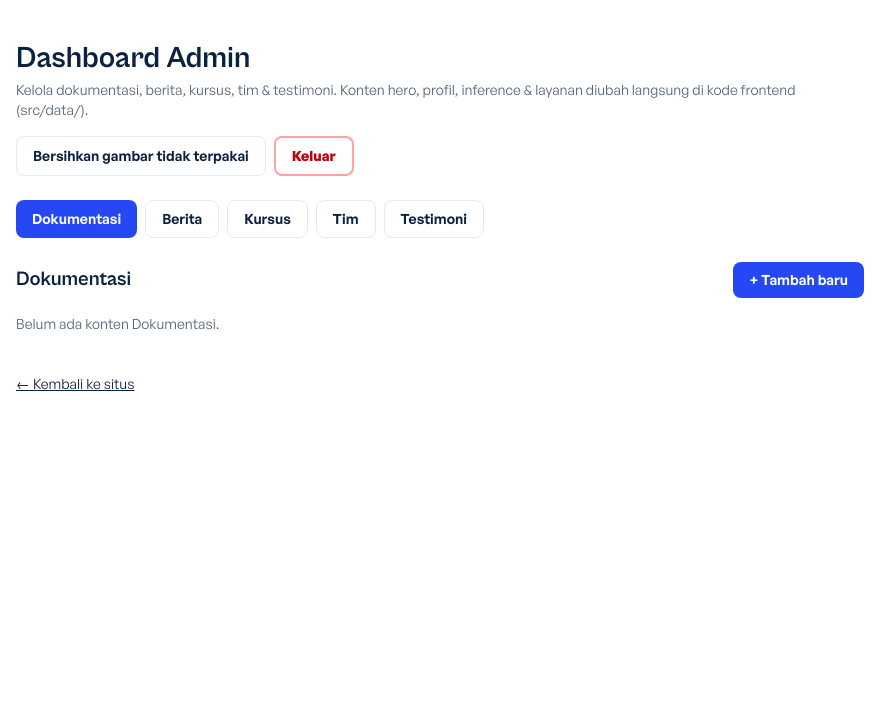
Admin — dashboard › tambah baru → form muncul, Simpan → POST + daftar dimuat ulang
The width and height of the screenshot is (881, 710).
Expected: the heading "Dashboard Admin" is shown, [16,41,250,75]
Click the button "+ Tambah baru": (799, 280) [733,262,864,298]
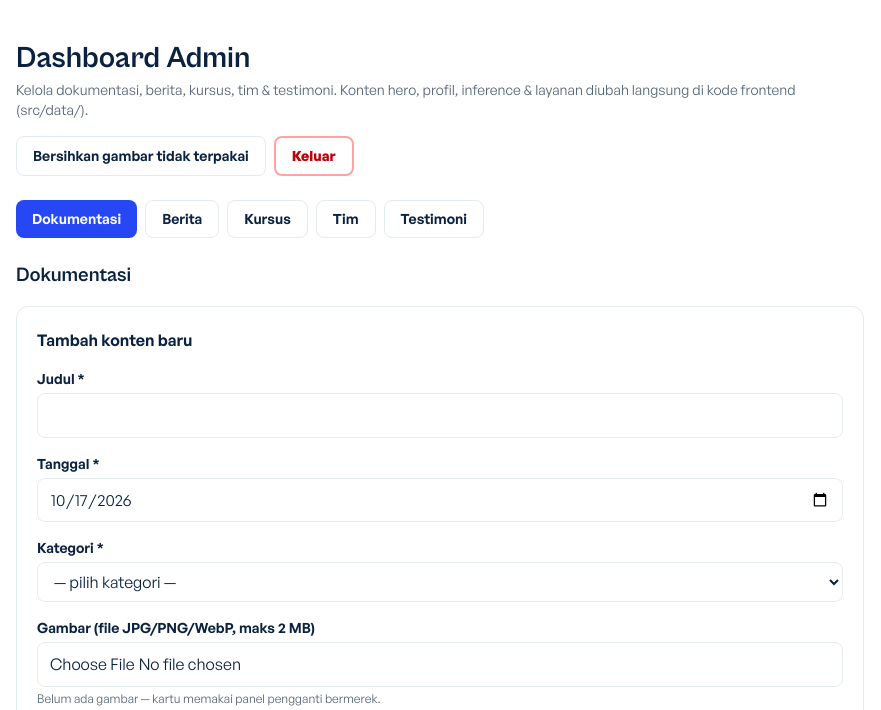
In the field labelled "Judul *": (440, 416) [37,393,843,438], type "Karya Baru"
In the date field labelled "Tanggal *": (440, 500) [37,478,843,522], type "2026-10-02"
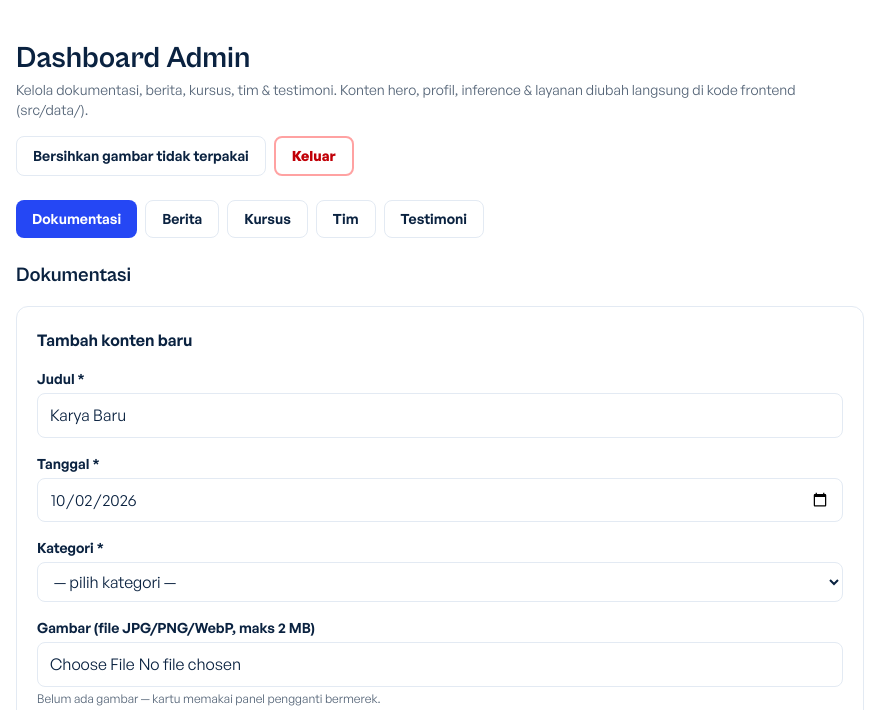
Select "Lainnya (ketik sendiri)" in the dropdown labelled "Kategori *": (440, 582) [37,562,843,602]
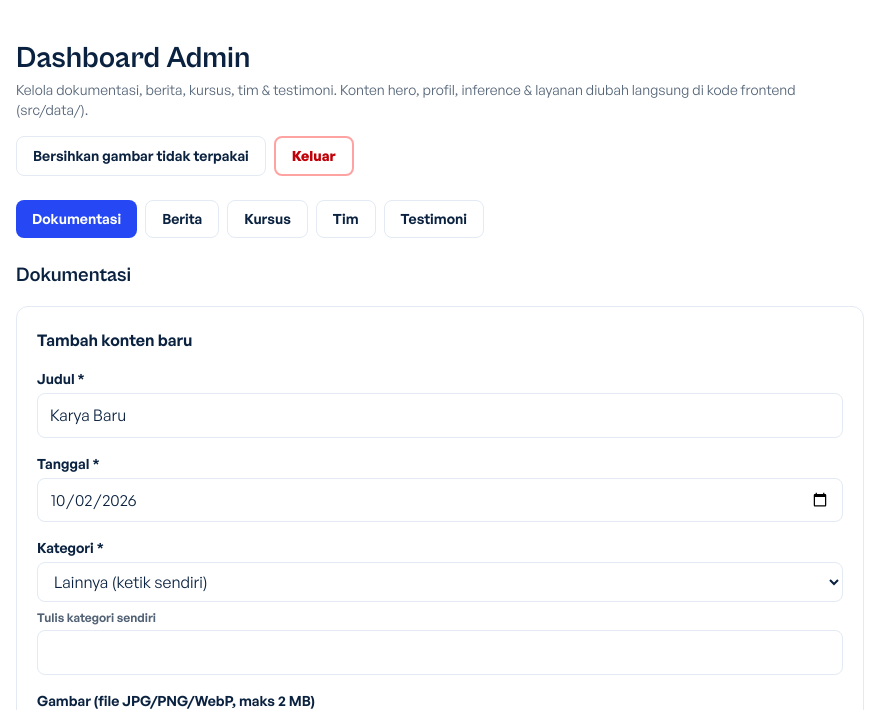
In the field labelled "Tulis kategori sendiri": (440, 652) [37,630,843,675], type "Project"
(page scrolled)
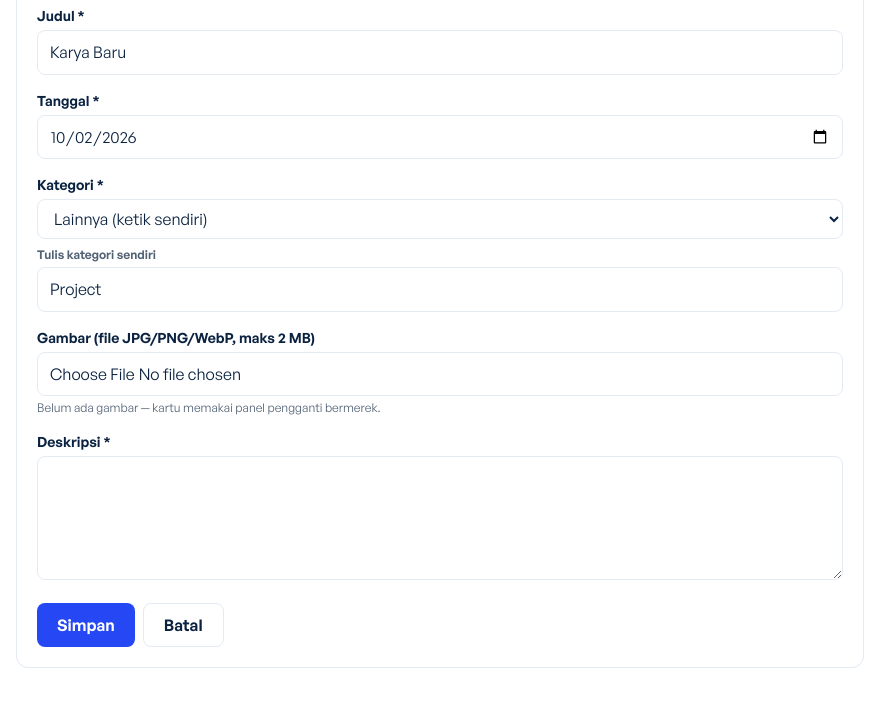
In the text box labelled "Deskripsi *": (440, 518) [37,456,843,580], type "Deskripsi karya."
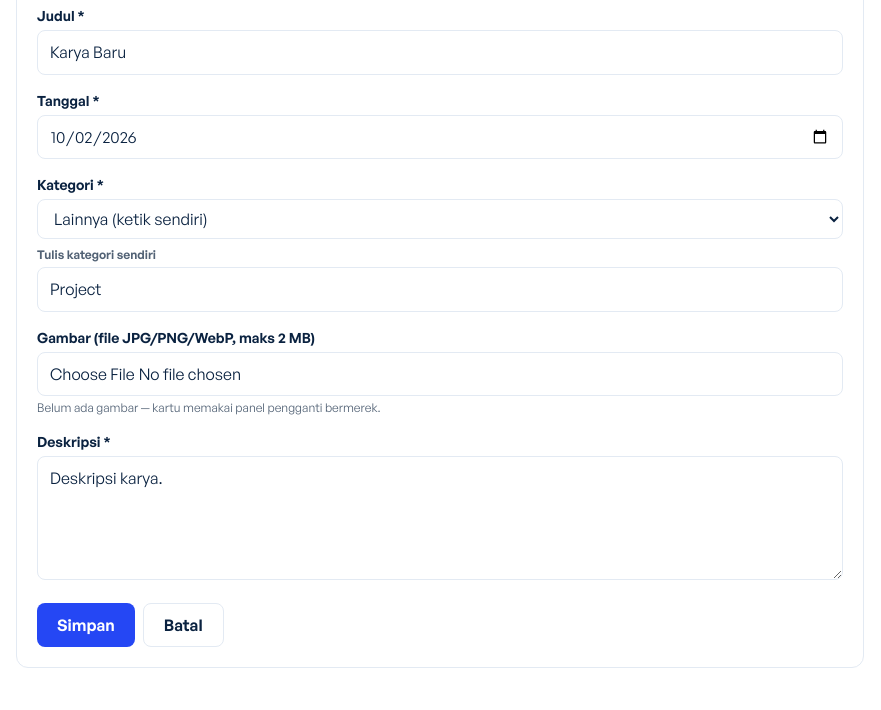
Click the button "Simpan": (86, 625) [37,603,135,647]
(page scrolled)
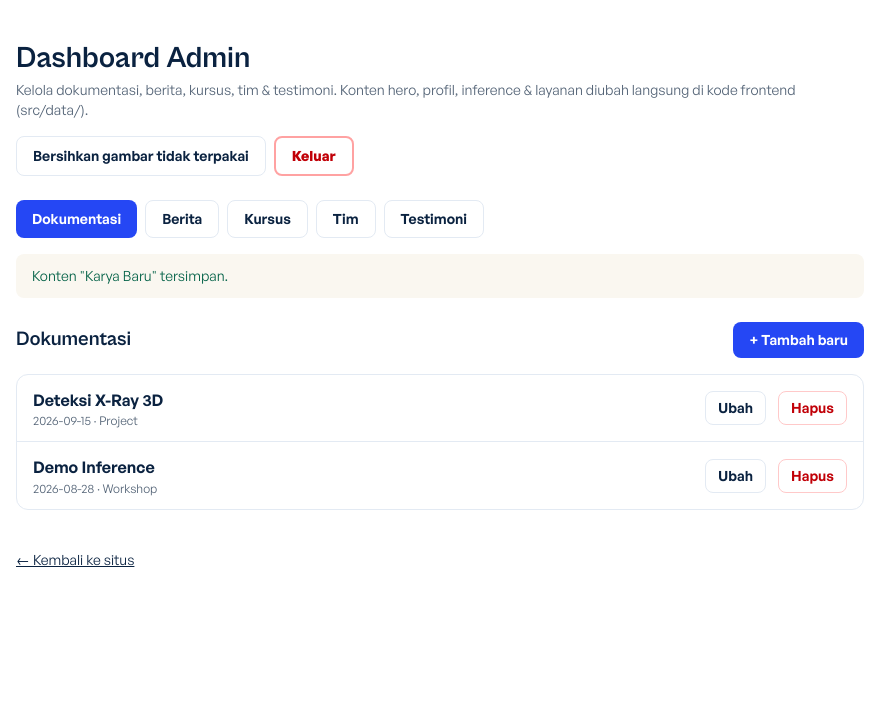
Expected: the message reads "Konten \"Karya Baru\" tersimpan.", [32,267,228,284]
